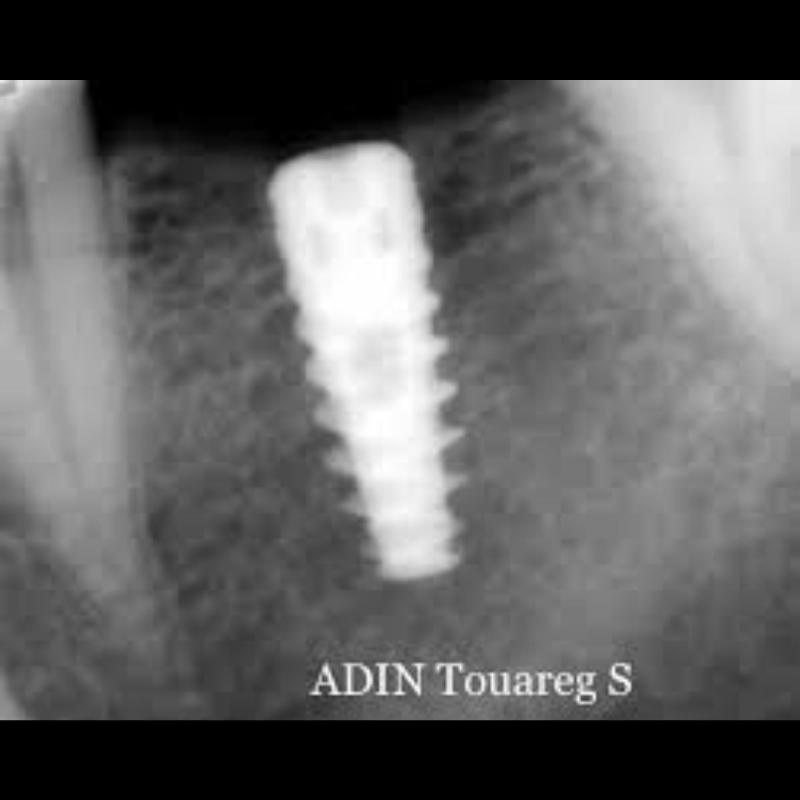ADIN: (250, 137, 492, 587)
